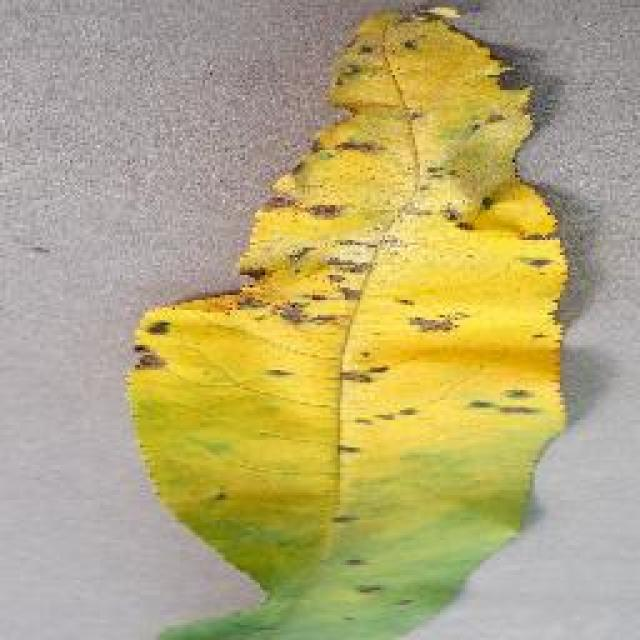Peach_Bacterial_Spot: (234, 60, 584, 507)
